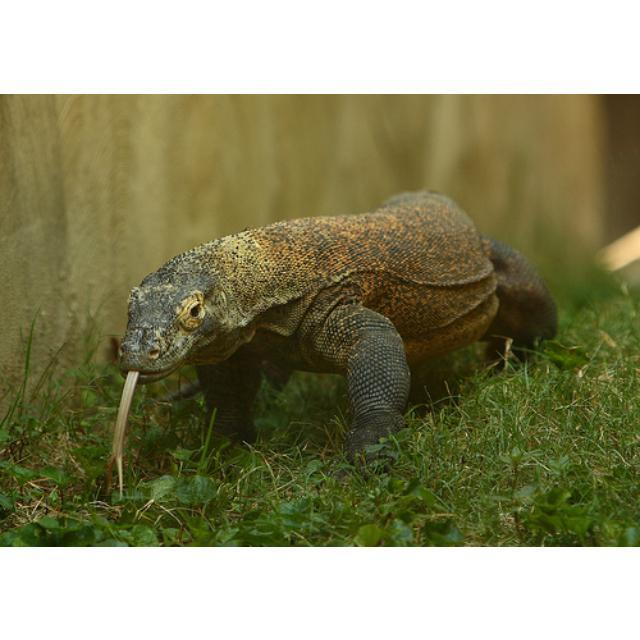KomodoDragon: (98, 184, 563, 500)
